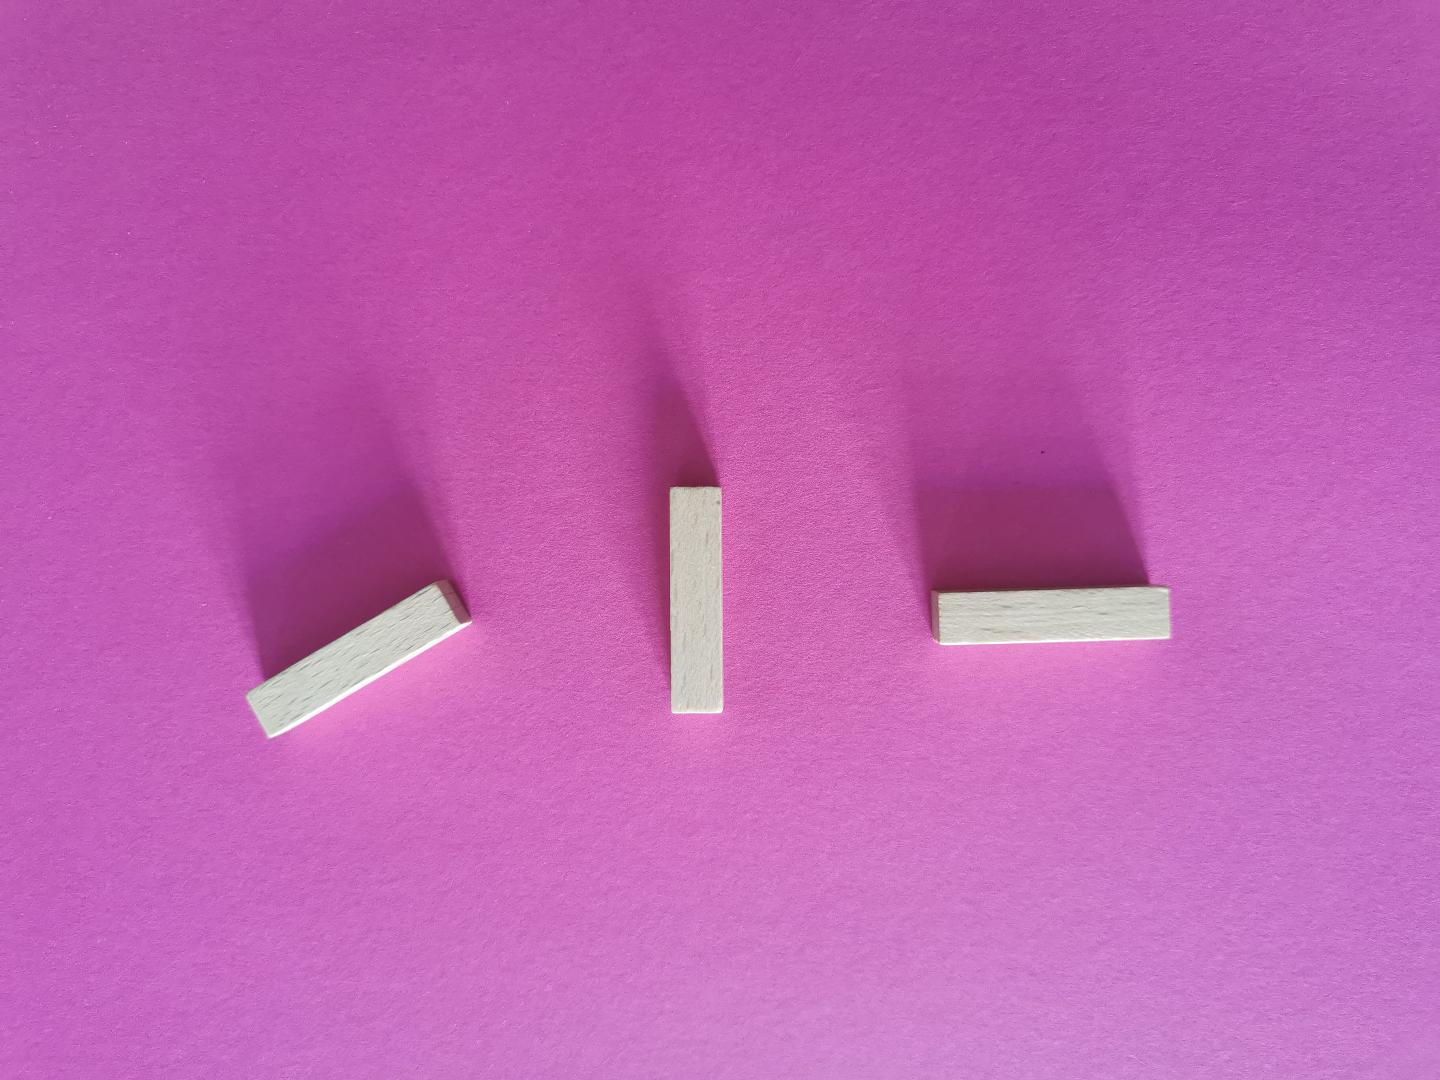jenga: (247, 580, 469, 737), (931, 585, 1170, 644), (669, 487, 722, 715)
